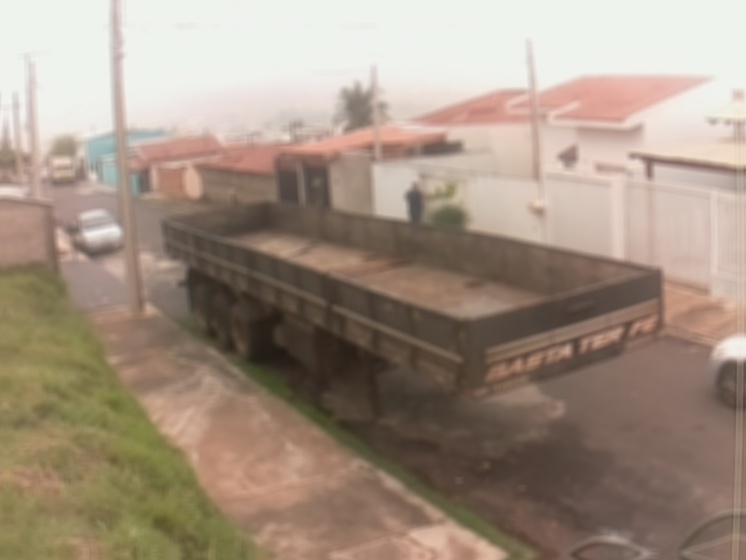person: (402, 181, 428, 225)
